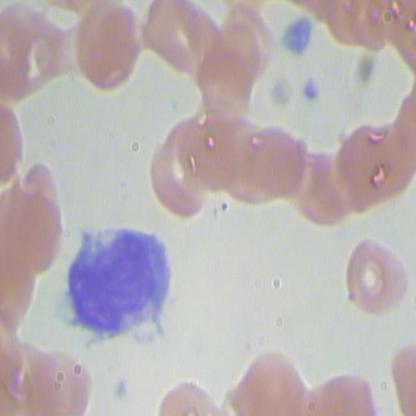Platelets: (279, 14, 313, 56), (300, 72, 324, 103), (107, 374, 131, 405)
RBC: (1, 158, 65, 270), (231, 113, 309, 204), (259, 133, 337, 224), (73, 1, 151, 91), (334, 231, 411, 322), (136, 131, 213, 222), (161, 103, 238, 194), (202, 117, 279, 208), (284, 140, 361, 231), (329, 119, 406, 210), (190, 23, 267, 114), (141, 1, 218, 91), (233, 345, 311, 415)
WBC: (59, 221, 177, 348)
